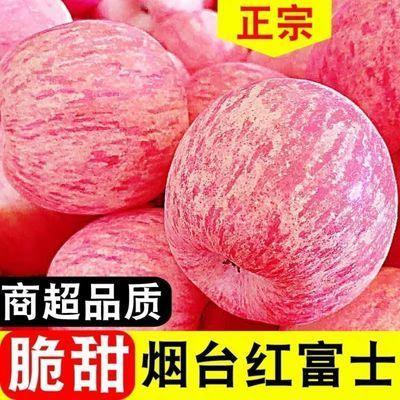apple: (164, 77, 399, 323), (1, 18, 191, 223)
